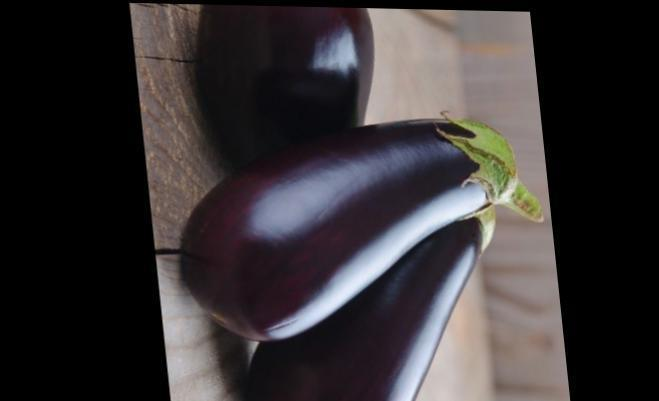eggplant: (179, 90, 552, 400), (176, 3, 387, 184)
